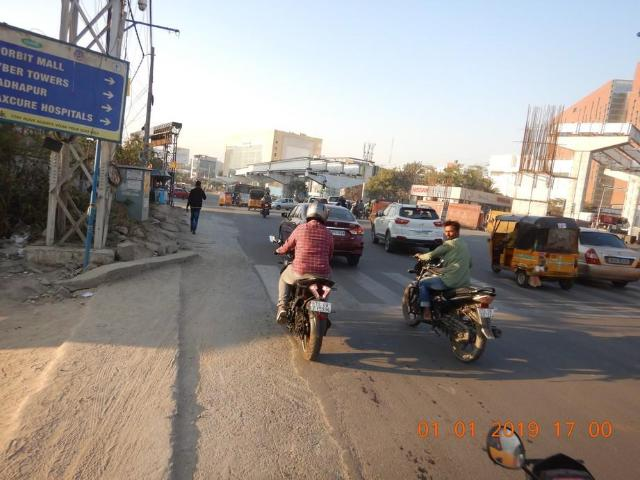helm: (308, 203, 330, 224)
motor: (403, 257, 501, 366), (289, 279, 337, 363)
non-helm: (445, 223, 461, 242)
